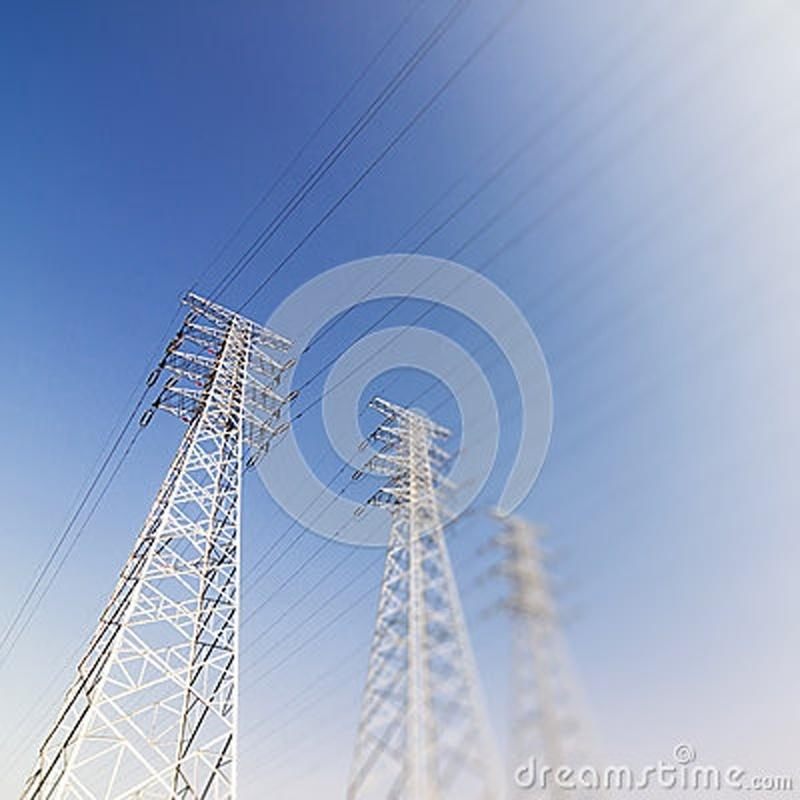power_tower: (80, 278, 259, 787)
